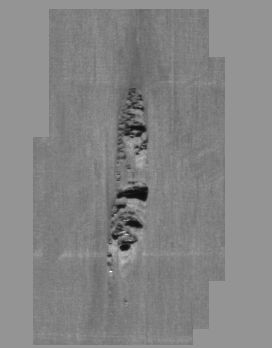oxl: (35, 10, 237, 338)
